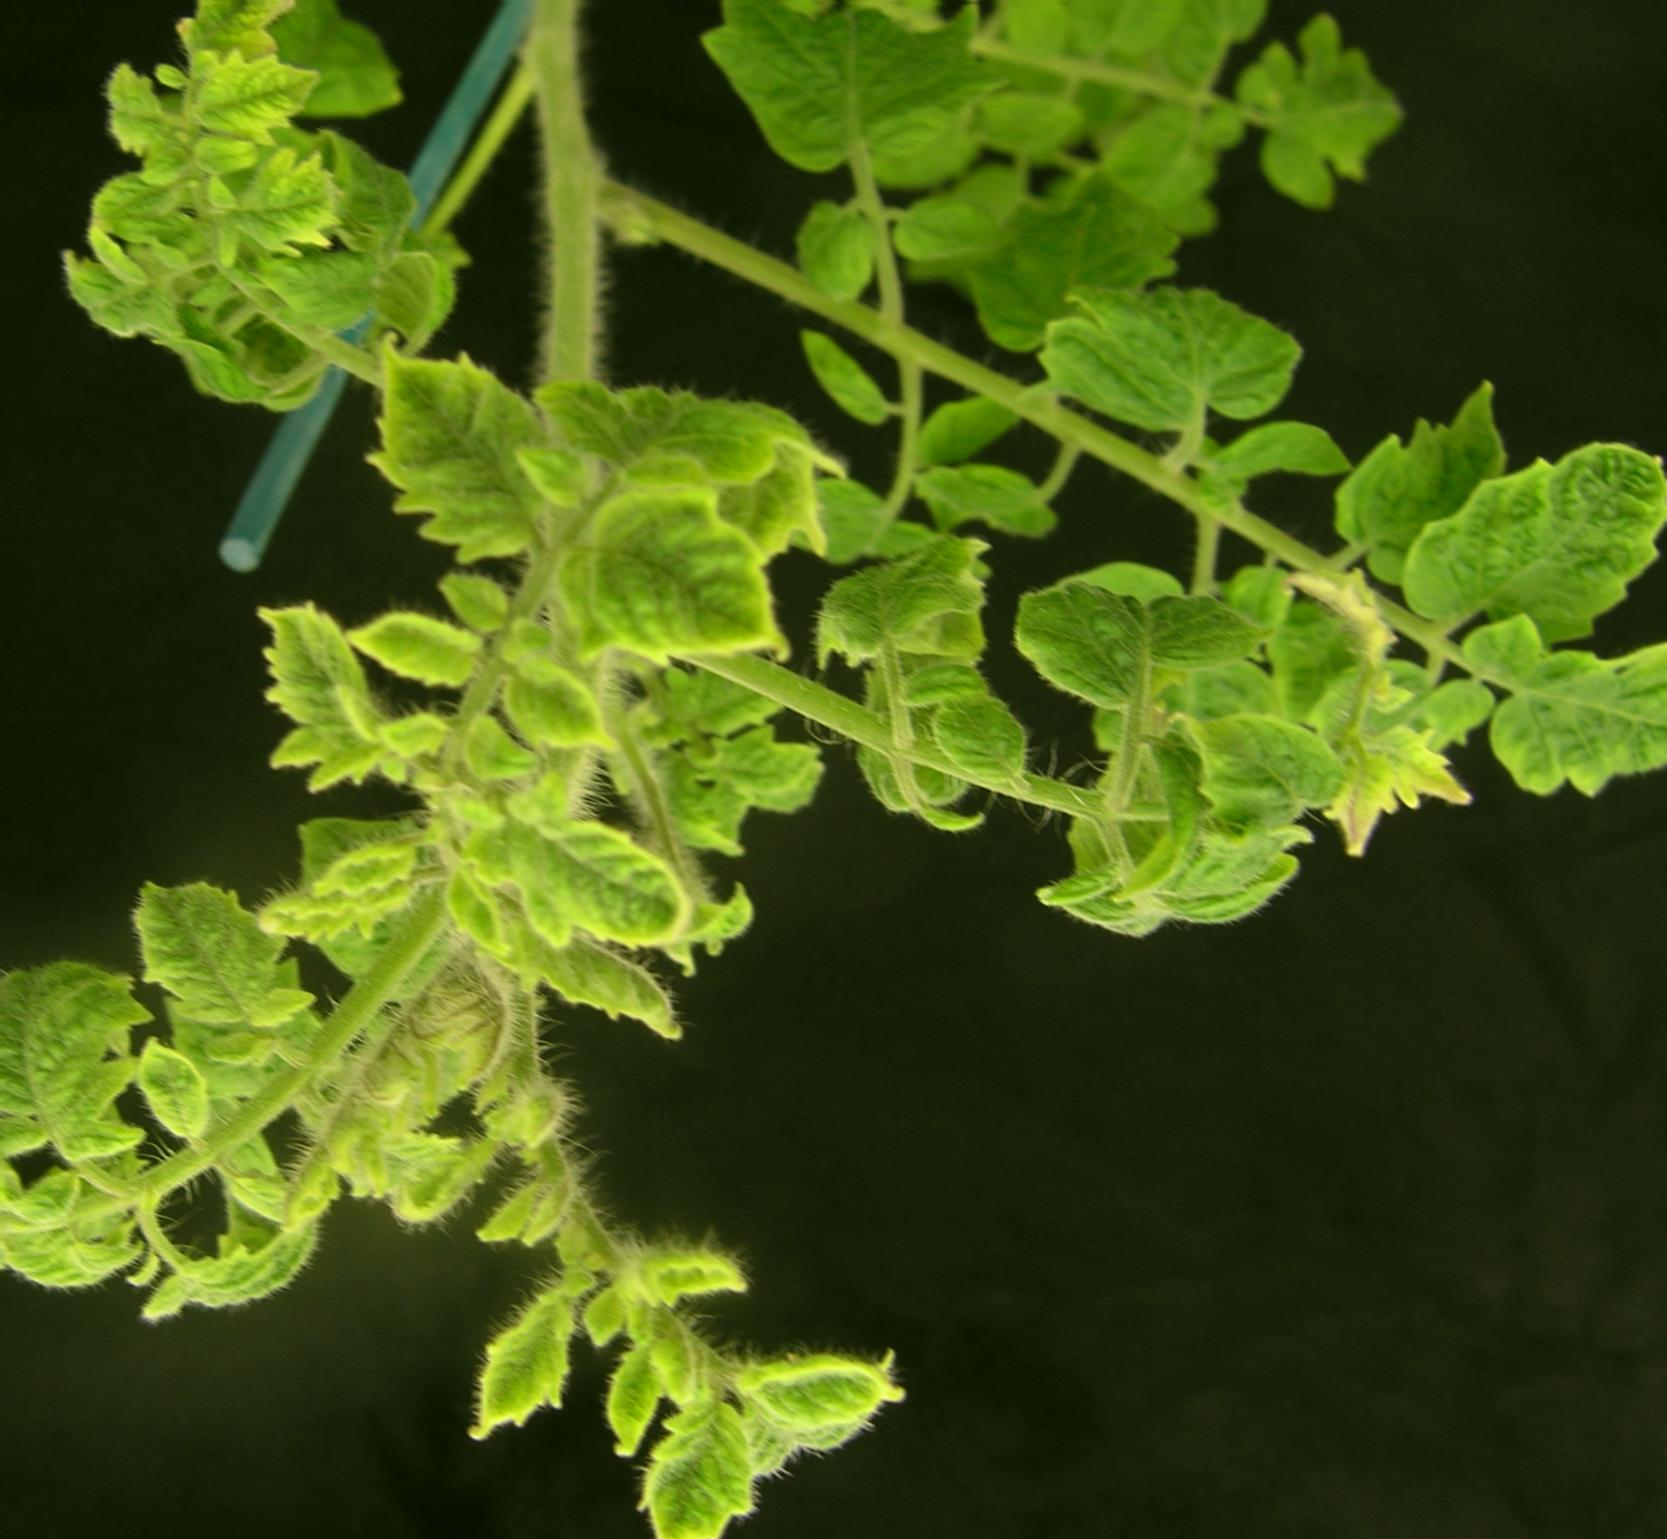Tomato leaf yellow virus: (556, 452, 822, 690), (1375, 444, 1667, 639), (354, 319, 539, 560), (1471, 597, 1667, 815), (103, 865, 301, 1048), (481, 804, 696, 955), (238, 597, 404, 780), (6, 963, 147, 1177), (621, 1387, 757, 1539), (743, 1342, 928, 1448), (195, 163, 349, 274), (0, 1207, 132, 1313), (174, 0, 317, 93), (186, 62, 337, 141)
